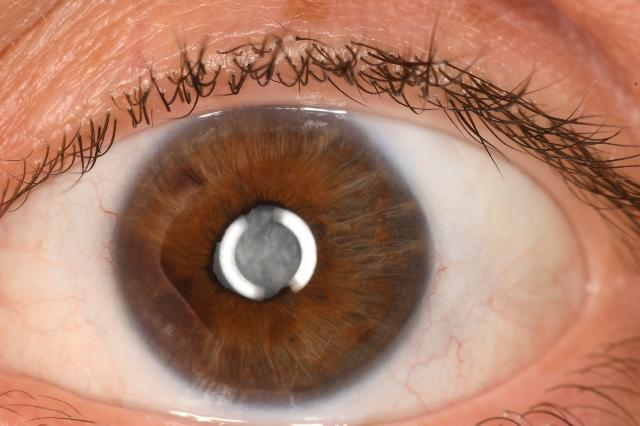eye: (113, 108, 435, 410)
